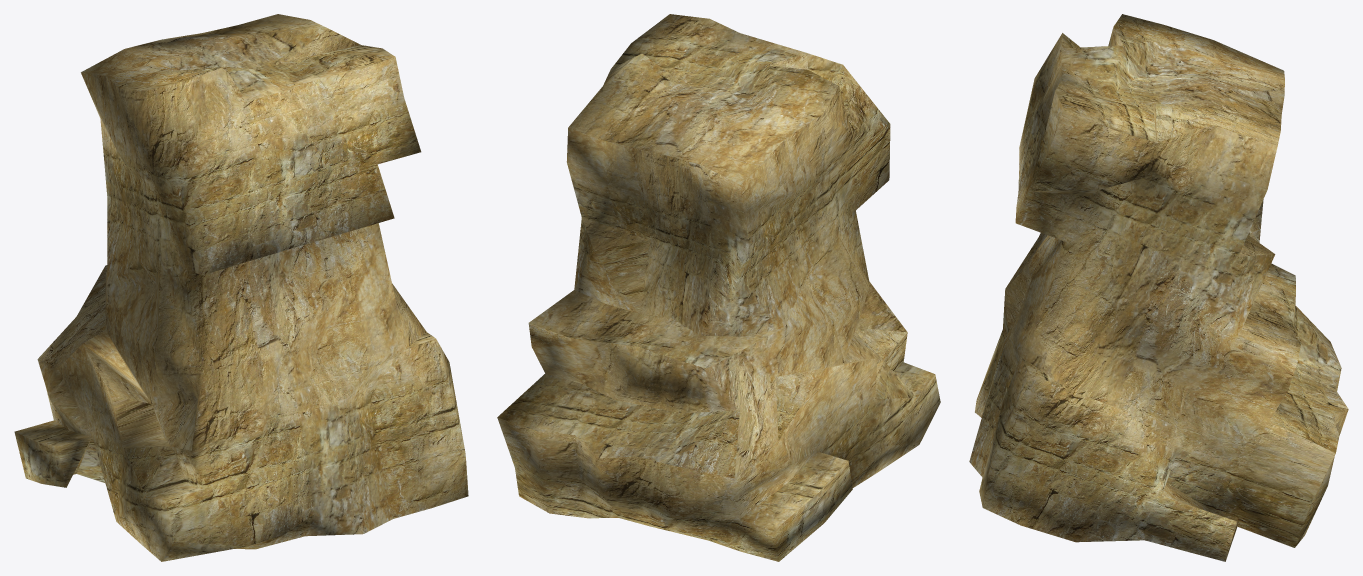
Rendered from Pill_031.dae.
3 renders of one model, left to right at view 1: azimuth 30°, elevation 25°; view 2: azimuth 150°, elevation 25°; view 3: azimuth 270°, elevation 25°, orthographic. The views are drawn at different scales.
Parts seen in each view (by area): view 1: rock0; view 2: rock0; view 3: rock0.
Boxes of the visible parts, <box> form: rock0: <box>14,14,468,561</box>; rock0: <box>497,14,940,561</box>; rock0: <box>969,14,1348,561</box>.
Size of the model in its own units: 2.75 by 2.86 by 3.55.
